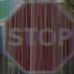Stop: (2, 7, 73, 69)
